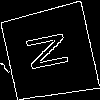N: (24, 28, 79, 73)
